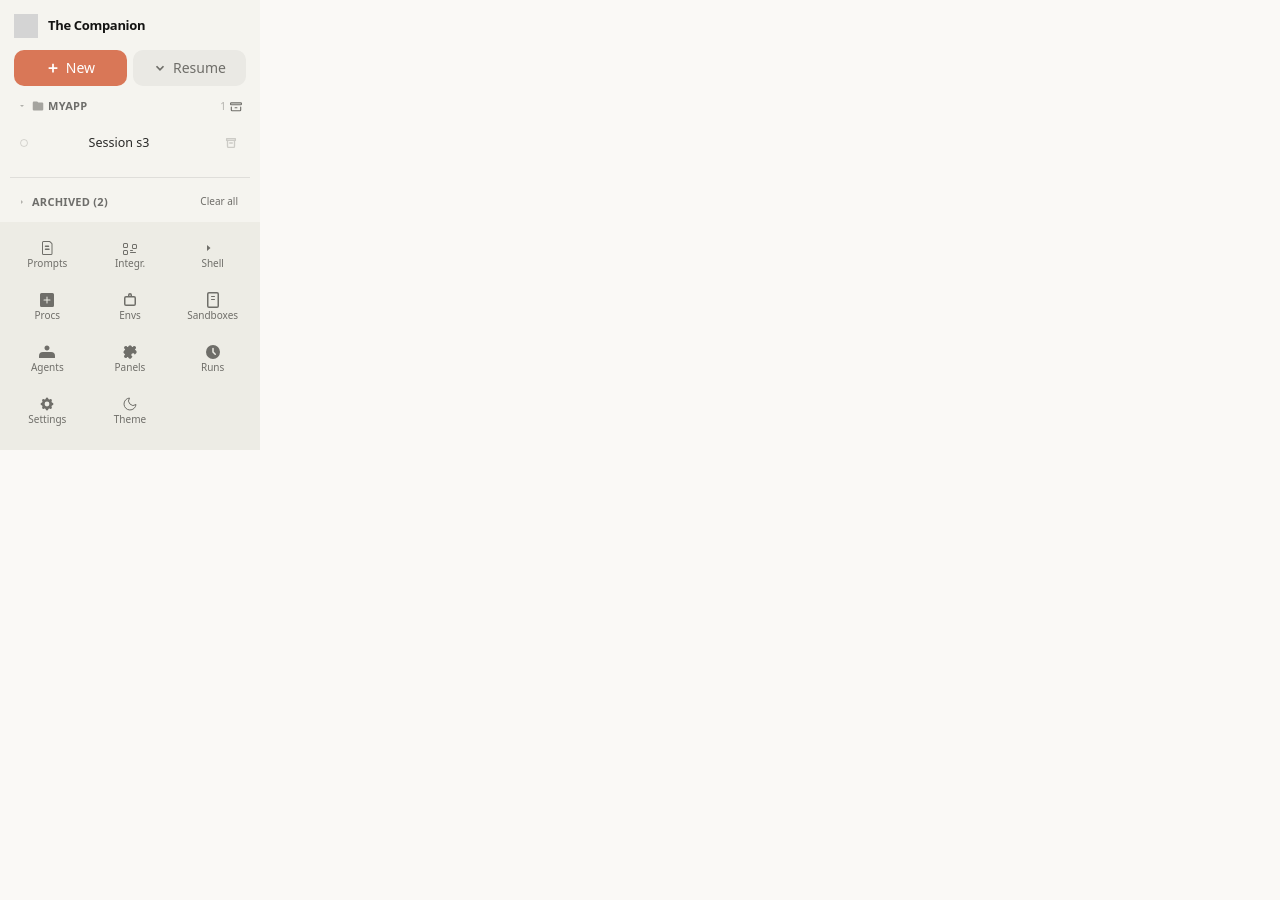
it: Sidebar › clicking 'Clear all' shows confirmation modal for all archived sessions
This screenshot has width=1280, height=900.
Step 1. Click the button "Clear all" → {"x": 219, "y": 202}, box [192,192,246,211]
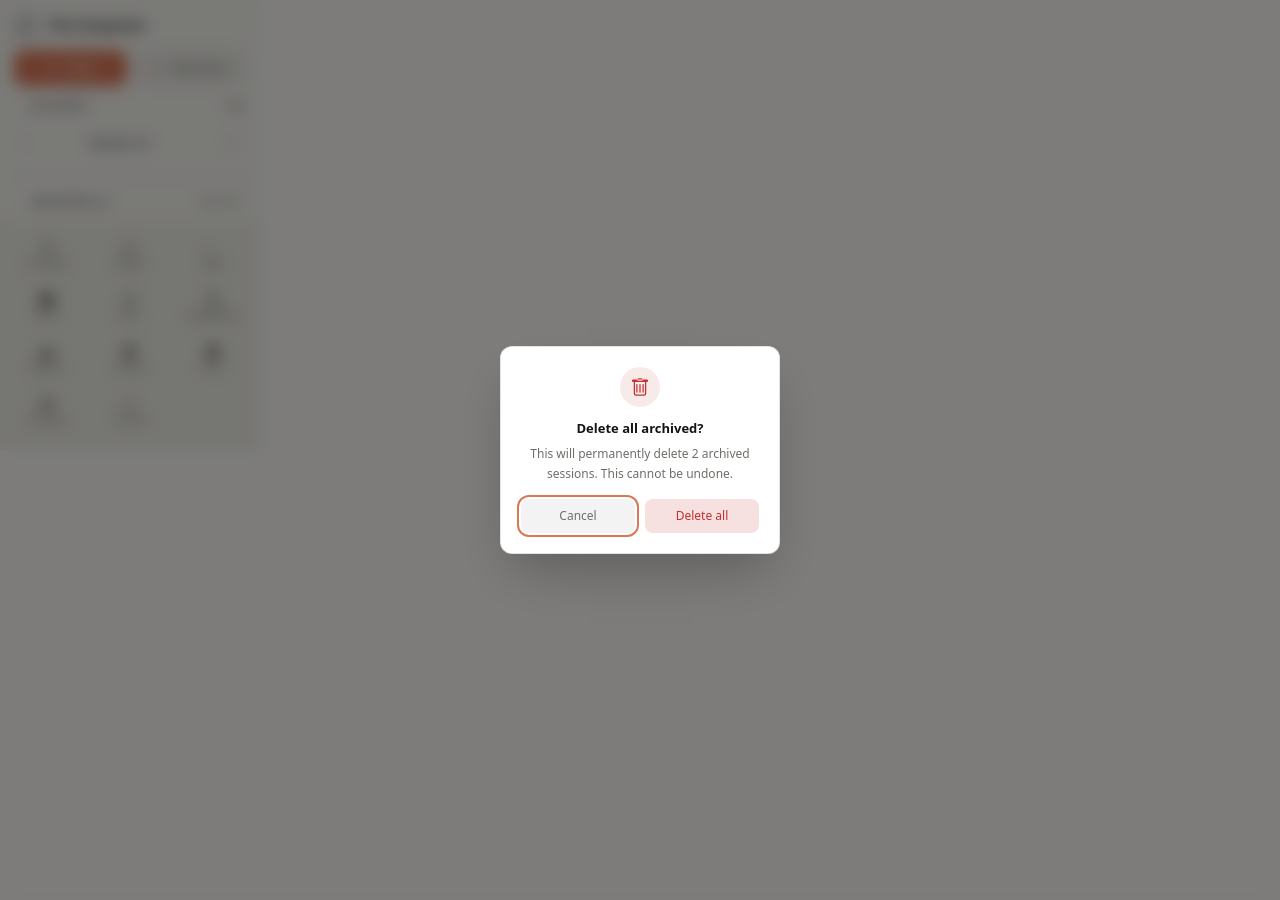
Result: the text "Delete all archived?" is shown at [576,419,704,437]
